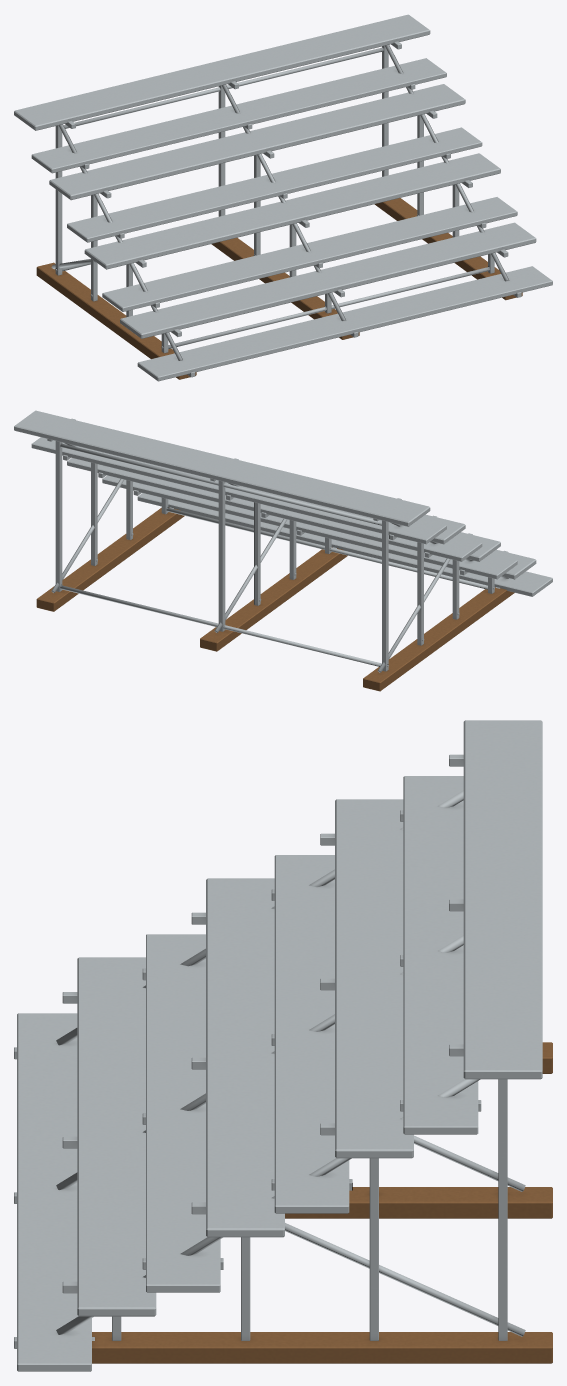
Rendered from school_bleachers.glb.
3 views of the same model, one above another, from view 1: azimuth 30°, elevation 25°; view 2: azimuth 150°, elevation 25°; view 3: azimuth 270°, elevation 25° (orthographic). The views are drawn at different scales.
Parts seen in each view (by area): view 1: school_bleachers_Body; view 2: school_bleachers_Body; view 3: school_bleachers_Body.
Part boxes in pixels (bbox=[...]): school_bleachers_Body: bbox=[14, 14, 552, 381]; school_bleachers_Body: bbox=[14, 410, 552, 691]; school_bleachers_Body: bbox=[14, 720, 552, 1371].
Size of the model in its own units: 4 by 1.68 by 2.59.
Materials: 1 (1 with a texture image).
